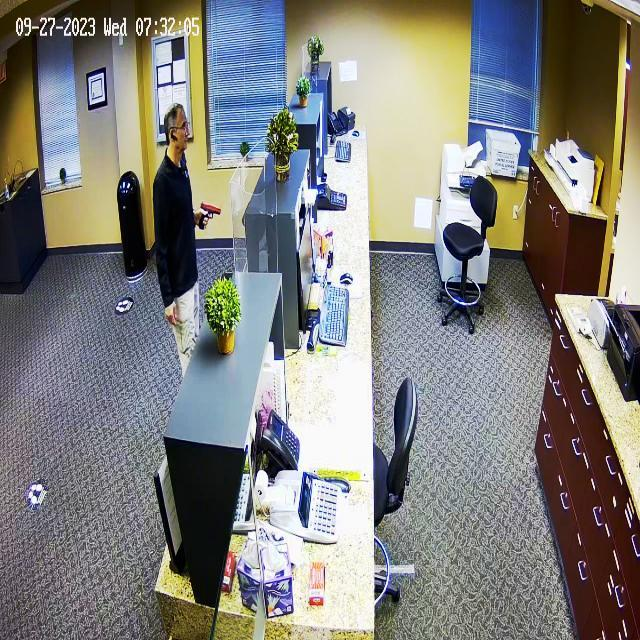Gun: (193, 198, 231, 236)
